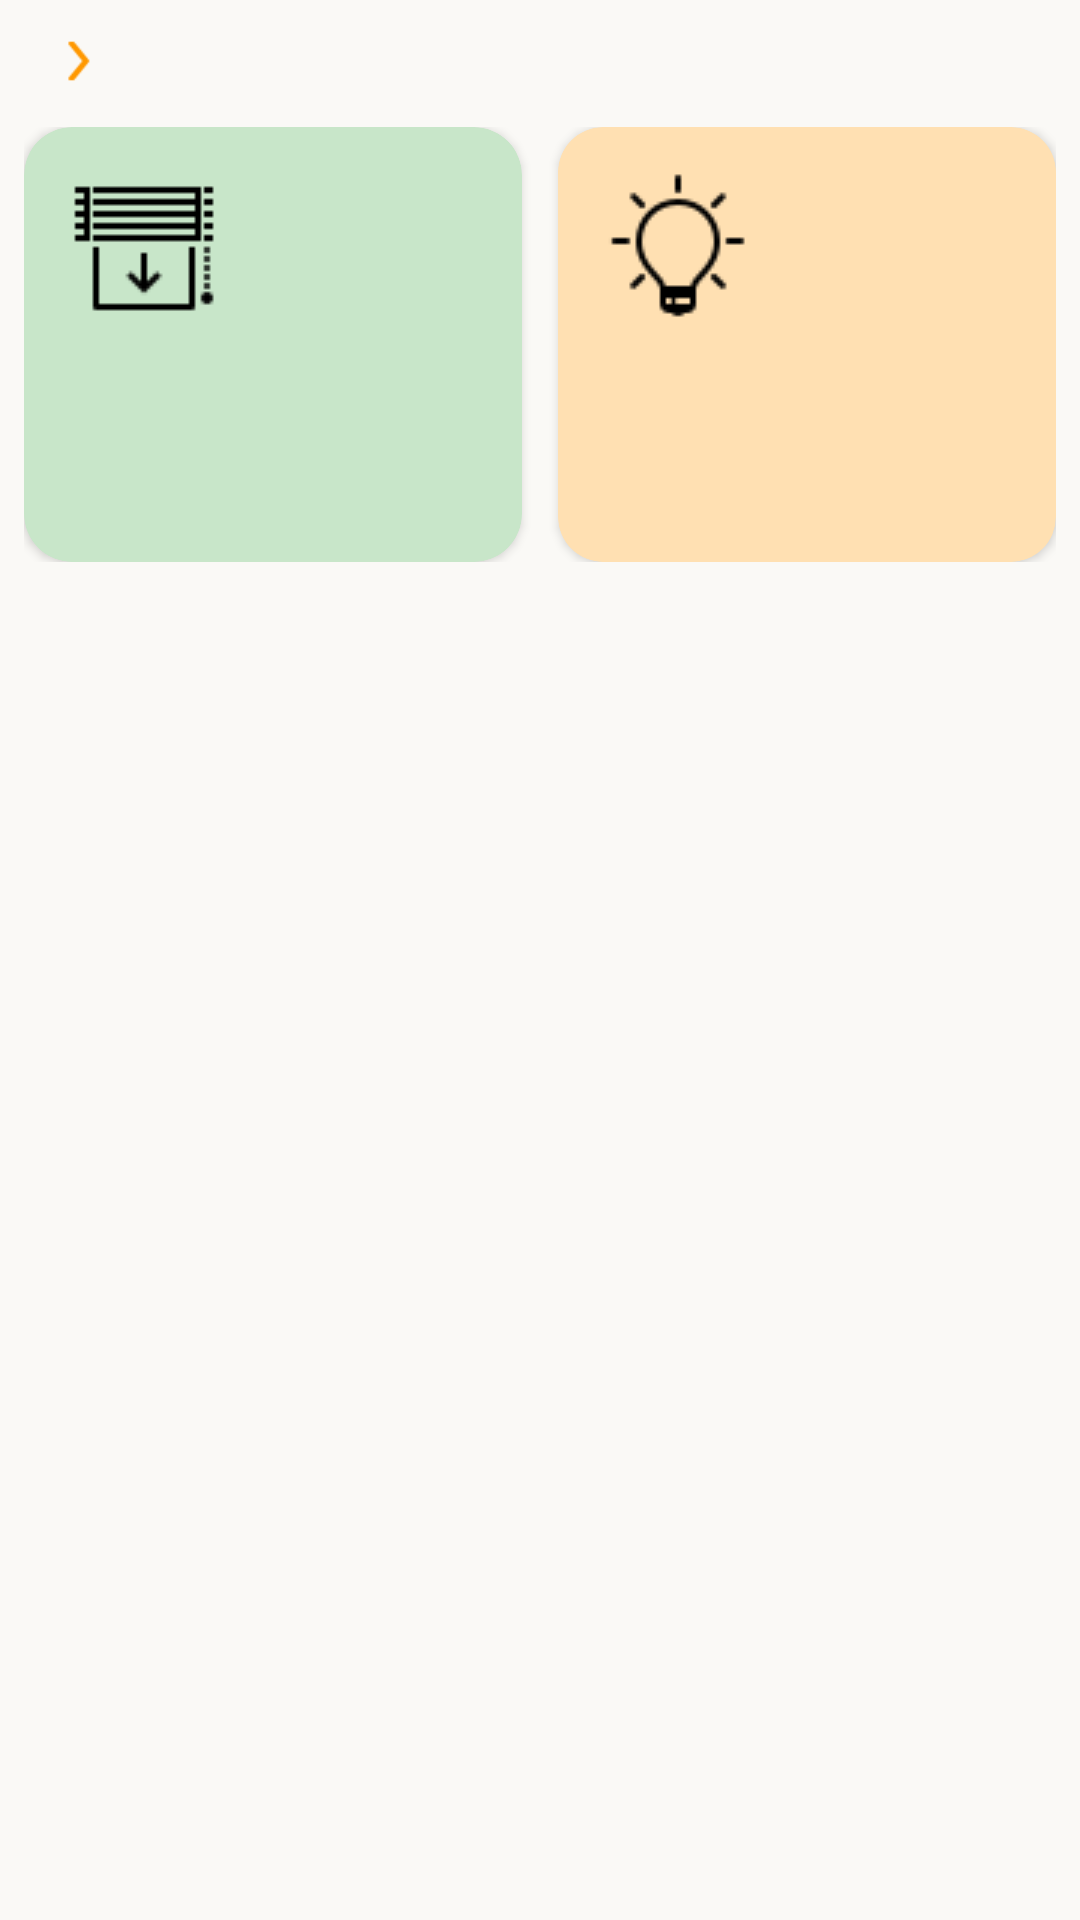

Icons on this 1080px×1920px Android screen, each with its box as (x1, y1, x2, y2):
chevron right: (68, 41, 90, 81)
window shade: (74, 186, 214, 311)
